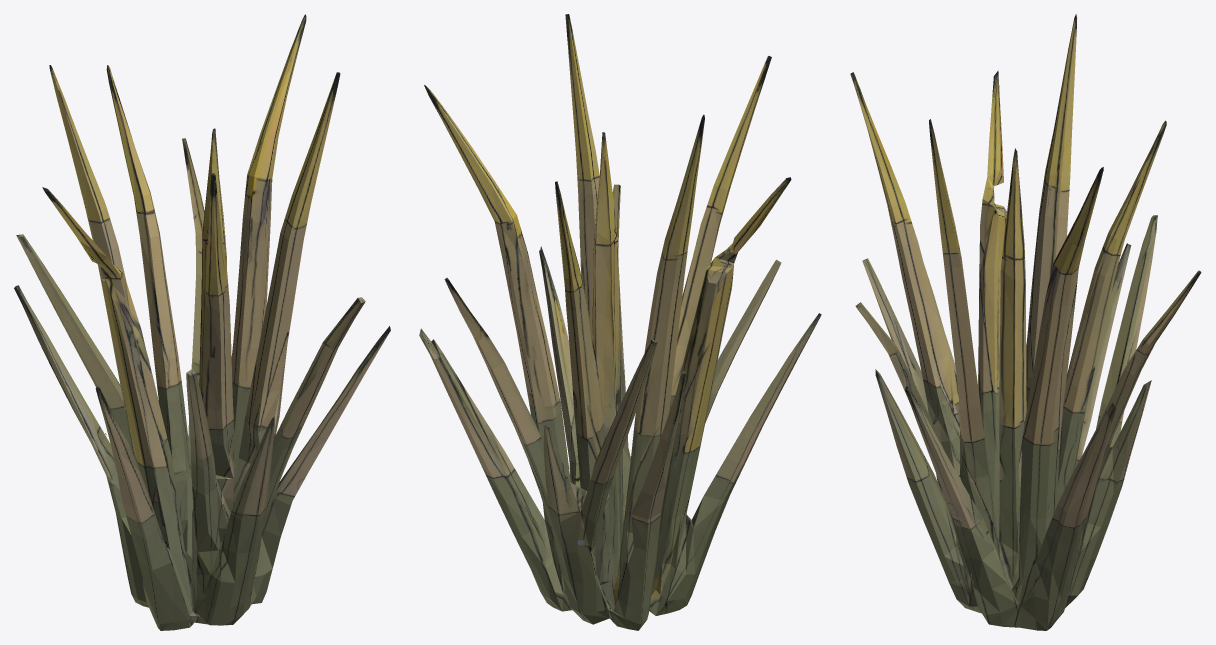
The model's file is SavannahGrass.glb.
3 renders of one model, left to right at view 1: azimuth 30°, elevation 25°; view 2: azimuth 150°, elevation 25°; view 3: azimuth 270°, elevation 25°, orthographic. The views are drawn at different scales.
Visible parts, largest first — view 1: tripo_node_6cee3cea-e862-4997-8c61-1bd0ee8b1652; view 2: tripo_node_6cee3cea-e862-4997-8c61-1bd0ee8b1652; view 3: tripo_node_6cee3cea-e862-4997-8c61-1bd0ee8b1652.
Part boxes in pixels (x1,y1,x2,y2): tripo_node_6cee3cea-e862-4997-8c61-1bd0ee8b1652: (14,14,390,630); tripo_node_6cee3cea-e862-4997-8c61-1bd0ee8b1652: (419,14,821,630); tripo_node_6cee3cea-e862-4997-8c61-1bd0ee8b1652: (850,14,1201,630).
Size of the model in its own units: 0.5956 by 0.9844 by 0.585.
1 material, 1 textured.
